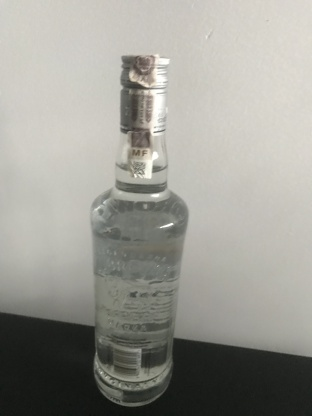nakretka: (119, 52, 170, 135)
